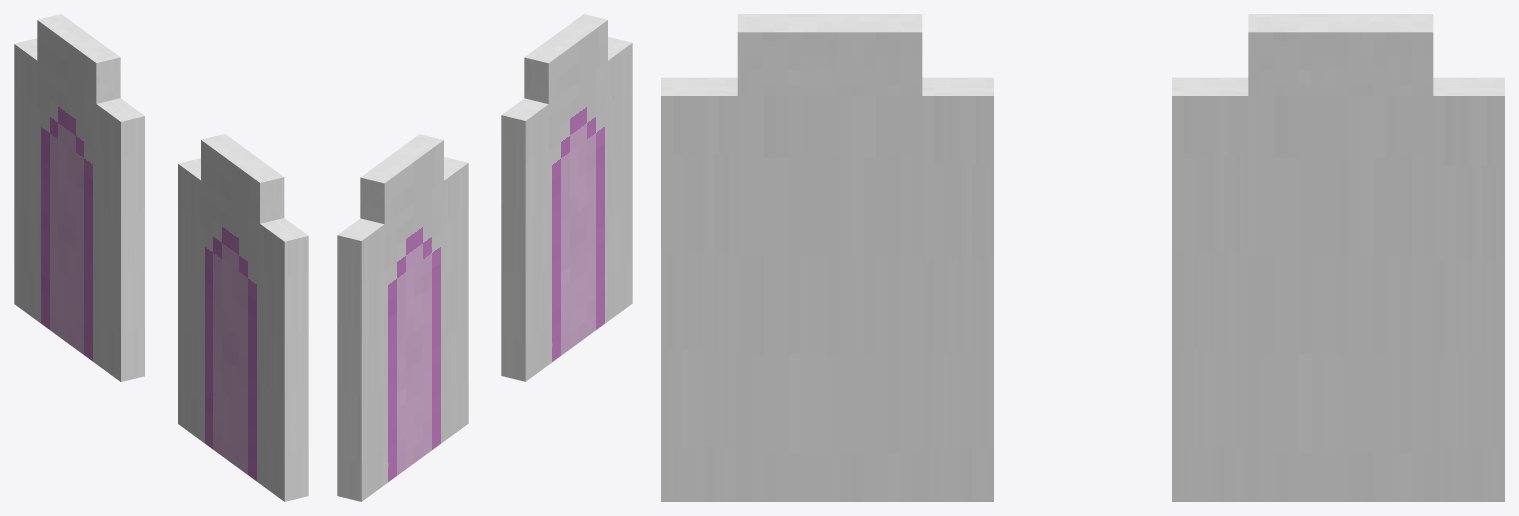
File: ears.fbx
The picture shows the model from 3 angles, left to right: view 1: azimuth 30°, elevation 25°; view 2: azimuth 150°, elevation 25°; view 3: azimuth 270°, elevation 25°; orthographic projection. The views are drawn at different scales.
Parts seen in each view (by area): view 1: earLeft, earRight; view 2: earLeft, earRight; view 3: earLeft, earRight.
Part boxes in pixels (left/top/right/bottom): earLeft: left=178, top=134, right=308, bottom=501; earRight: left=14, top=14, right=144, bottom=381; earLeft: left=501, top=14, right=632, bottom=381; earRight: left=337, top=134, right=468, bottom=501; earLeft: left=661, top=14, right=993, bottom=501; earRight: left=1172, top=14, right=1504, bottom=501.
Bounding box in the file's own units: 1.18 × 14.01 × 22.82.
